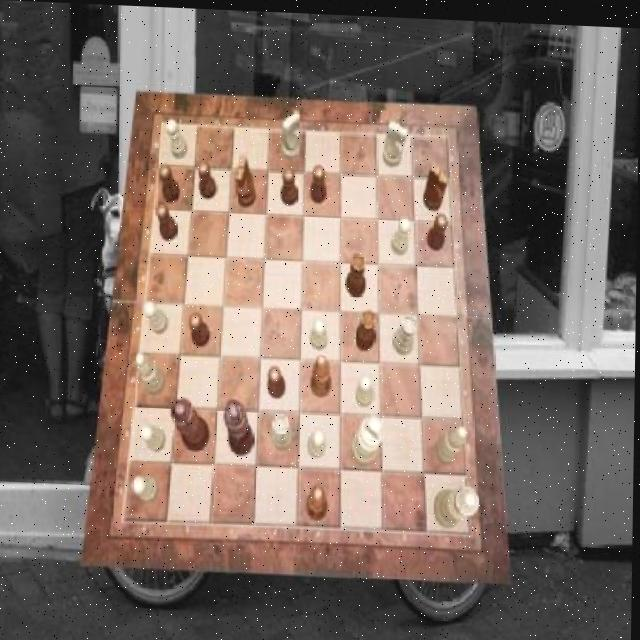bishop: (311, 351, 333, 394), (306, 482, 329, 517)
black-bishop: (224, 397, 254, 455)
black-king: (424, 160, 449, 208), (236, 153, 258, 206)
black-knight: (159, 162, 181, 202), (156, 201, 178, 239), (198, 159, 218, 197), (428, 211, 449, 247), (190, 312, 211, 347), (282, 165, 300, 203), (310, 162, 327, 201), (269, 363, 287, 396)
black-pawn: (172, 395, 211, 451)
black-queen: (356, 306, 378, 350), (348, 251, 368, 295)
black-rook: (137, 351, 167, 395), (436, 422, 469, 461)
white-bishop: (352, 411, 386, 464)
white-king: (385, 118, 410, 165), (281, 107, 301, 159)
white-knight: (166, 118, 189, 159), (145, 299, 170, 334), (391, 213, 412, 251), (141, 422, 167, 451), (133, 474, 160, 501), (357, 370, 375, 404), (311, 316, 329, 349), (309, 425, 328, 455)
white-pawn: (436, 480, 482, 526)
white-queen: (393, 311, 418, 353), (273, 411, 296, 448)
